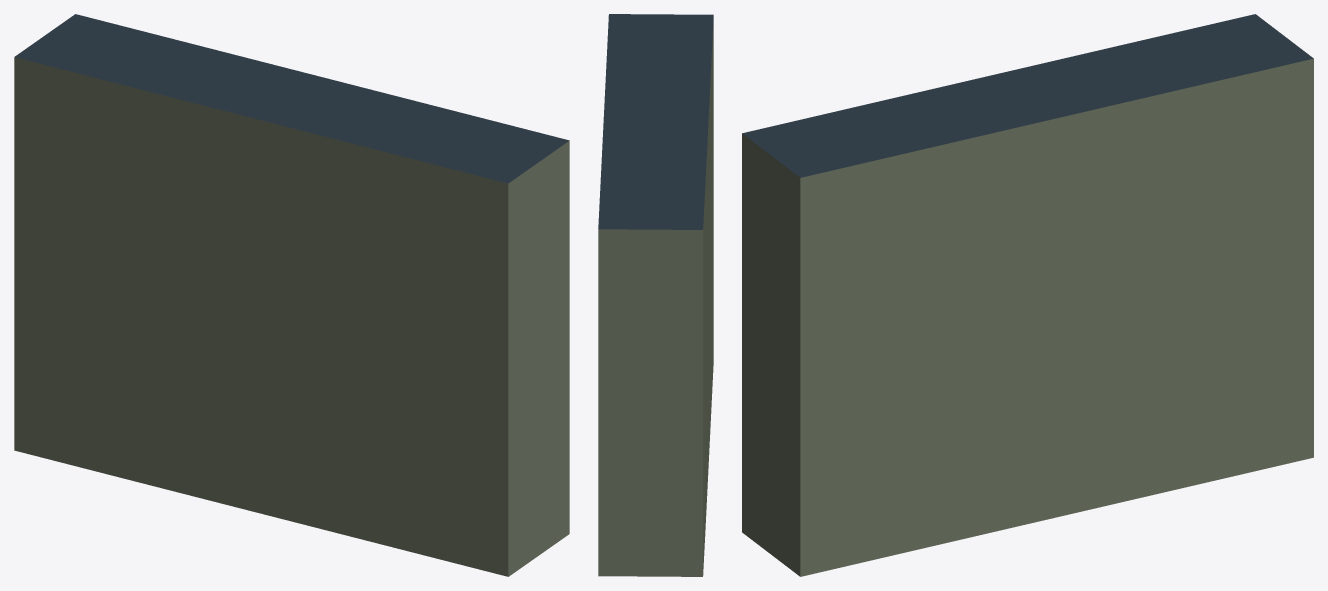
File: nyc-1024662-0.glb
The picture shows the model from 3 angles, left to right: view 1: azimuth 30°, elevation 25°; view 2: azimuth 150°, elevation 25°; view 3: azimuth 270°, elevation 25°; orthographic projection. The views are drawn at different scales.
Visible parts, largest first — view 1: nyc-1024662-0; view 2: nyc-1024662-0; view 3: nyc-1024662-0.
Part boxes in pixels (x1,y1,x2,y2): nyc-1024662-0: [14, 14, 569, 576]; nyc-1024662-0: [598, 14, 713, 576]; nyc-1024662-0: [742, 14, 1313, 576].
Bounding box in the file's own units: 18.86 × 21.41 × 27.81.
